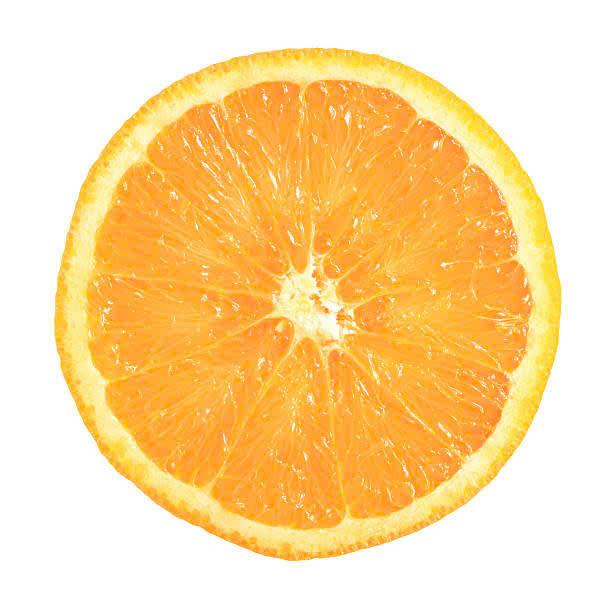orange: (84, 23, 556, 551)
